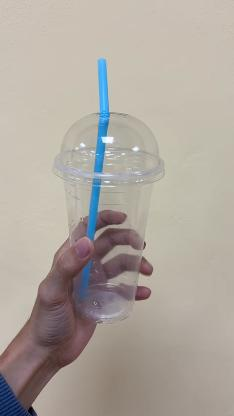Plastic Cup: (50, 110, 168, 320)
